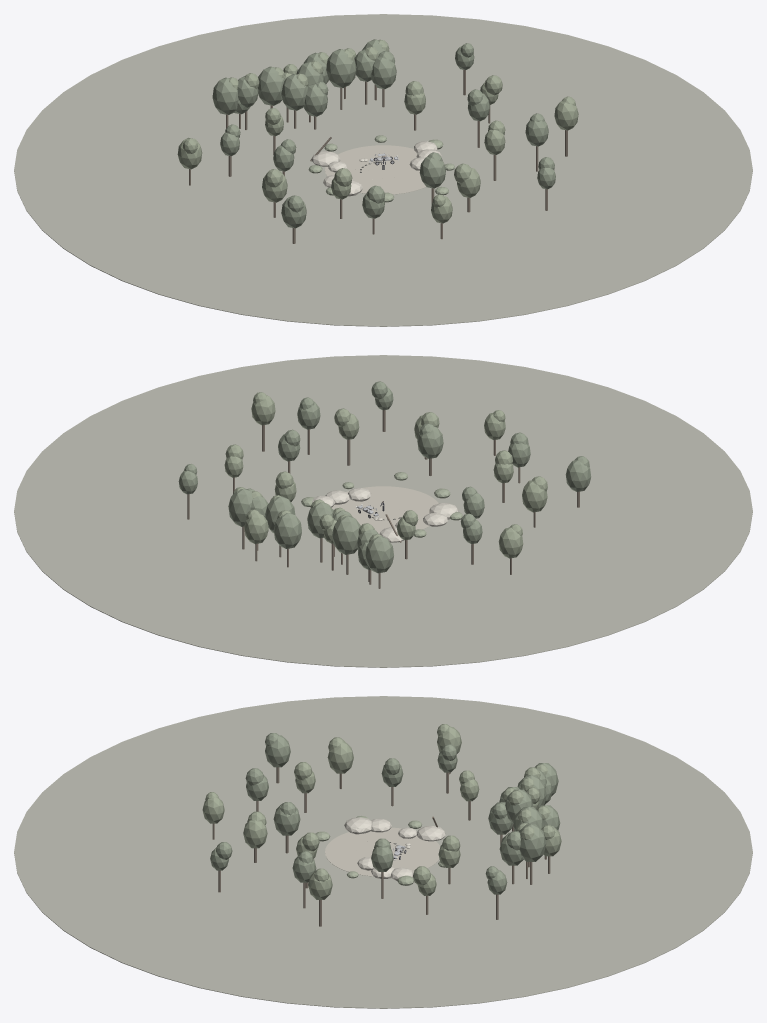
3 views of the same model, one above another, from view 1: azimuth 30°, elevation 25°; view 2: azimuth 150°, elevation 25°; view 3: azimuth 270°, elevation 25° (orthographic).
Visible parts, largest first — view 1: ground, pad, treeN6_crownA, treeN2_crownA, treeN0_crownA, treeN3_crownA, tree18_crownA, tree4_crownA, tree6_crownA, tree23_crownA; view 2: ground, pad, treeN2_crownA, treeN0_crownA, treeN5_crownA, treeN8_crownA, tree14_crownA, tree18_crownA, tree13_crownA, tree11_crownA, tree5_crownA, treeN4_crownA (+2 smaller); view 3: ground, pad, treeN8_crownA, tree13_crownA, tree14_crownA, tree18_crownA, tree19_crownA.
Boxes of the visible parts, bbox=[...] form: ground: bbox=[14, 14, 752, 326]; pad: bbox=[325, 145, 426, 194]; treeN6_crownA: bbox=[326, 49, 356, 87]; treeN2_crownA: bbox=[258, 66, 285, 105]; treeN0_crownA: bbox=[212, 77, 238, 114]; treeN3_crownA: bbox=[281, 74, 307, 110]; tree18_crownA: bbox=[419, 156, 445, 188]; tree4_crownA: bbox=[371, 57, 396, 89]; tree6_crownA: bbox=[303, 84, 327, 116]; tree23_crownA: bbox=[554, 101, 578, 130]; ground: bbox=[14, 355, 752, 667]; pad: bbox=[331, 486, 438, 534]; treeN2_crownA: bbox=[332, 515, 360, 554]; treeN0_crownA: bbox=[365, 536, 393, 573]; treeN5_crownA: bbox=[273, 513, 301, 548]; treeN8_crownA: bbox=[228, 488, 252, 526]; tree14_crownA: bbox=[565, 460, 591, 491]; tree18_crownA: bbox=[417, 426, 443, 458]; tree13_crownA: bbox=[522, 480, 547, 512]; tree11_crownA: bbox=[498, 527, 523, 558]; tree5_crownA: bbox=[244, 513, 268, 543]; treeN4_crownA: bbox=[307, 502, 333, 538]; ground: bbox=[14, 696, 752, 1008]; pad: bbox=[325, 827, 440, 876]; treeN8_crownA: bbox=[519, 824, 546, 861]; tree13_crownA: bbox=[327, 742, 353, 773]; tree14_crownA: bbox=[265, 735, 290, 767]; tree18_crownA: bbox=[273, 803, 300, 835]; tree19_crownA: bbox=[243, 820, 267, 848].
Bounding box in the file's own units: 120 × 11.67 × 120.
